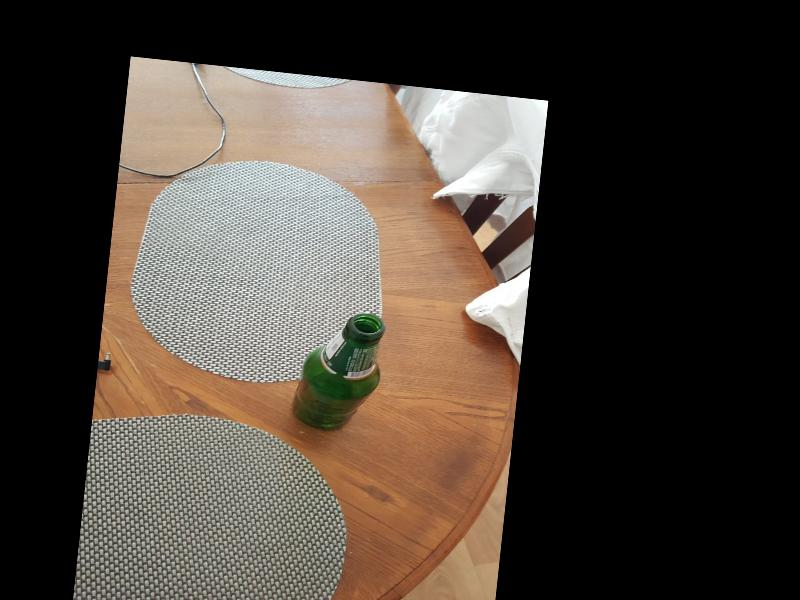Beer: (292, 307, 386, 437)
